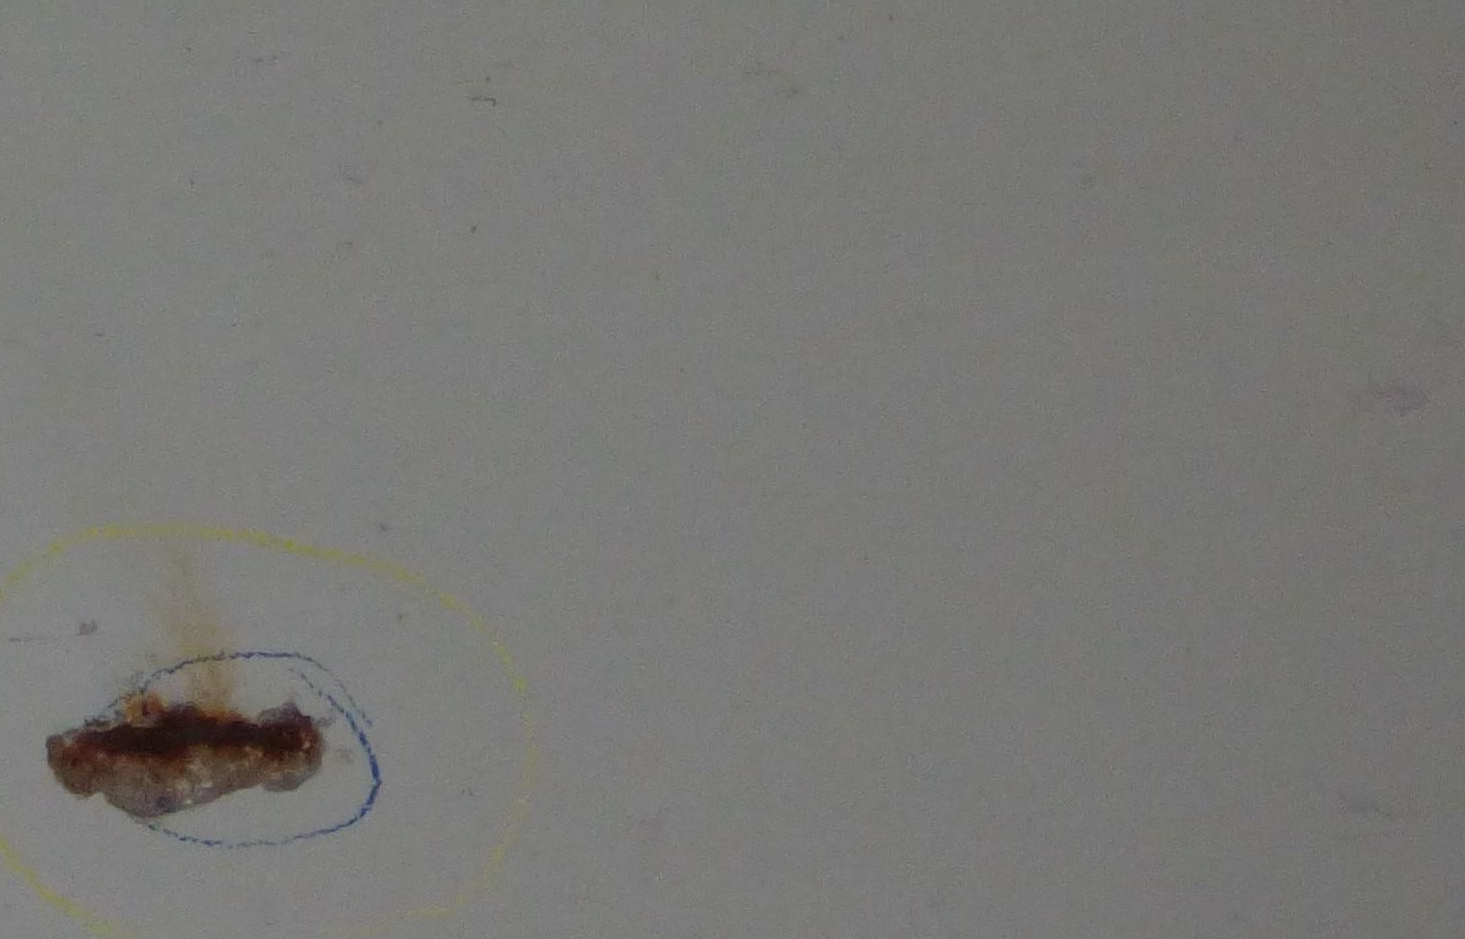Exposed reinforcement: (72, 724, 290, 754)
Spalling: (45, 699, 329, 824)
